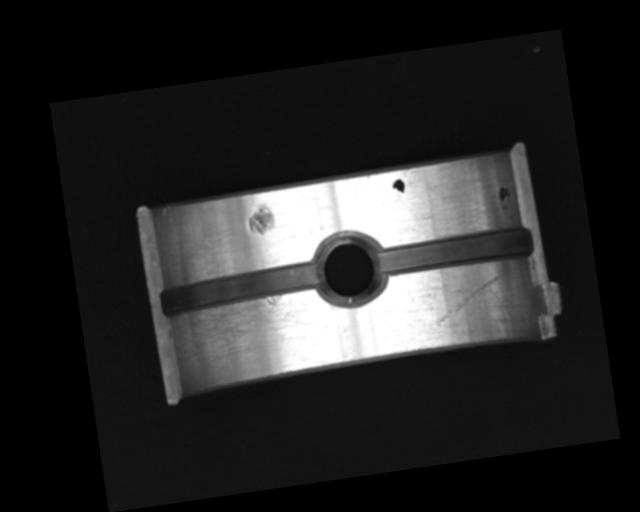blot: (496, 184, 513, 213), (390, 176, 407, 198)
bruise: (245, 203, 276, 236)
gap: (156, 259, 325, 319), (374, 224, 533, 279)
hole: (312, 226, 391, 312)
nick: (429, 273, 508, 329)
scratch: (175, 286, 332, 379)
